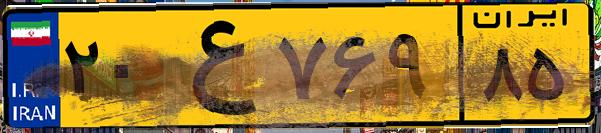0: (110, 28, 158, 98)
2: (57, 26, 110, 100)
5: (525, 38, 570, 115)
6: (330, 28, 385, 110)
7: (270, 28, 330, 110)
8: (475, 38, 525, 113)
9: (385, 28, 445, 110)
ع: (158, 12, 270, 120)
